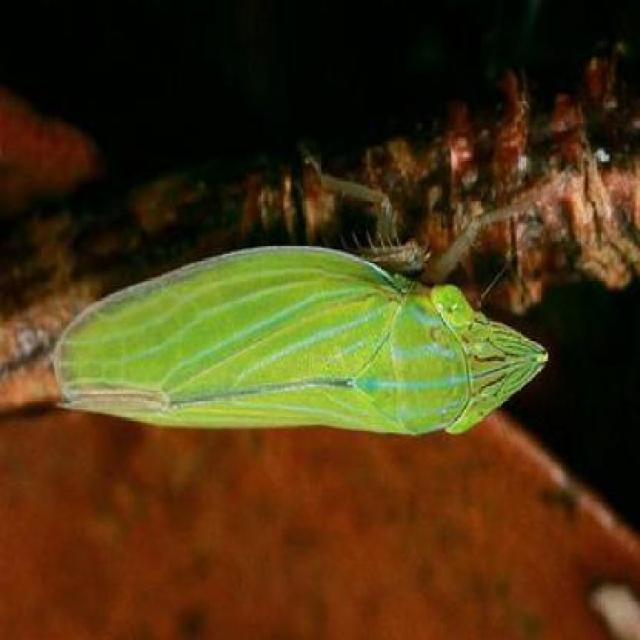green-leafhopper: (50, 242, 548, 447)
